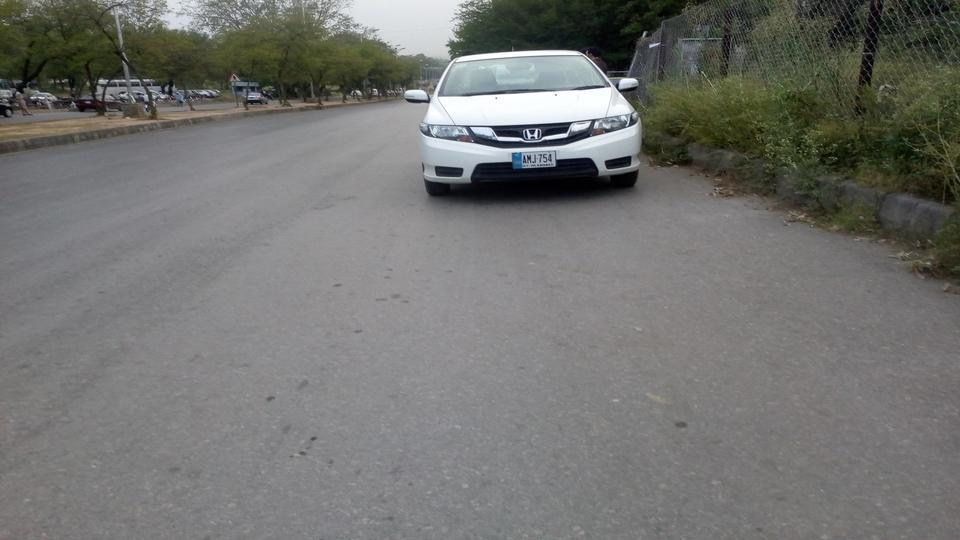NumberPlate: (511, 150, 558, 171)
